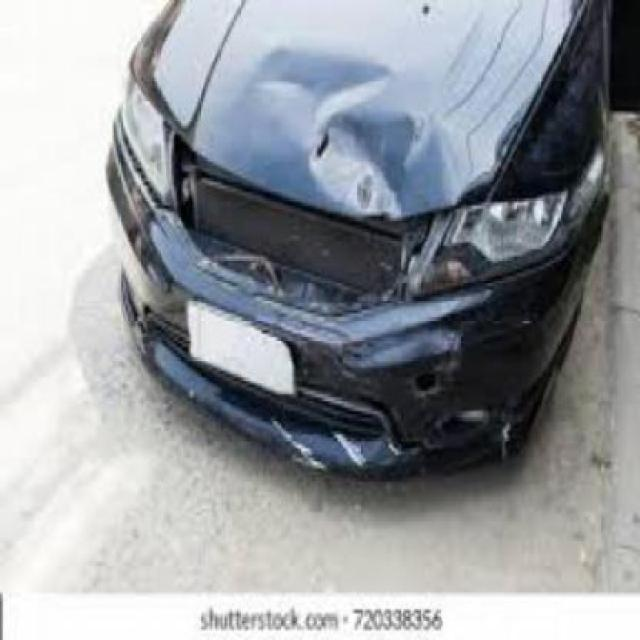bonnet-dent: (155, 0, 537, 240)
front-bumper-dent: (173, 270, 523, 479)
